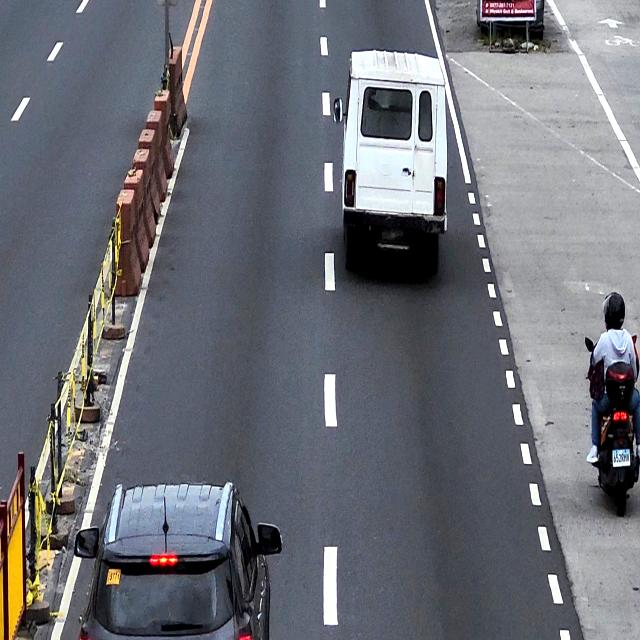Car: (73, 482, 282, 640), (333, 47, 449, 286)
License-Plate: (610, 448, 631, 468)
Motorcycle: (583, 332, 640, 514)
